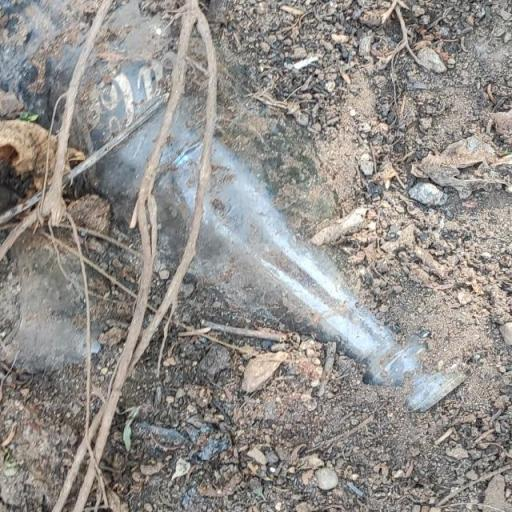glass: (1, 8, 474, 414)
